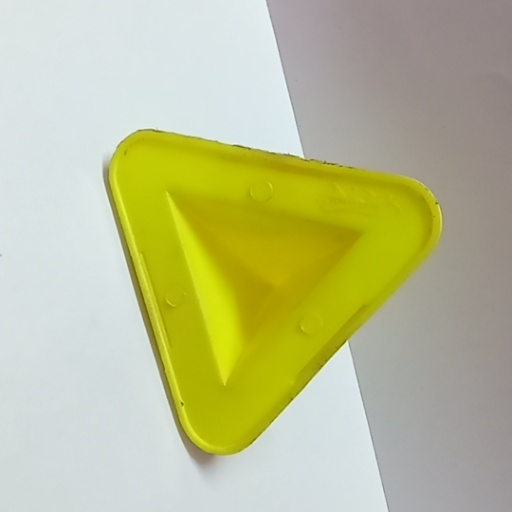yellow_cone: (39, 119, 490, 492)
